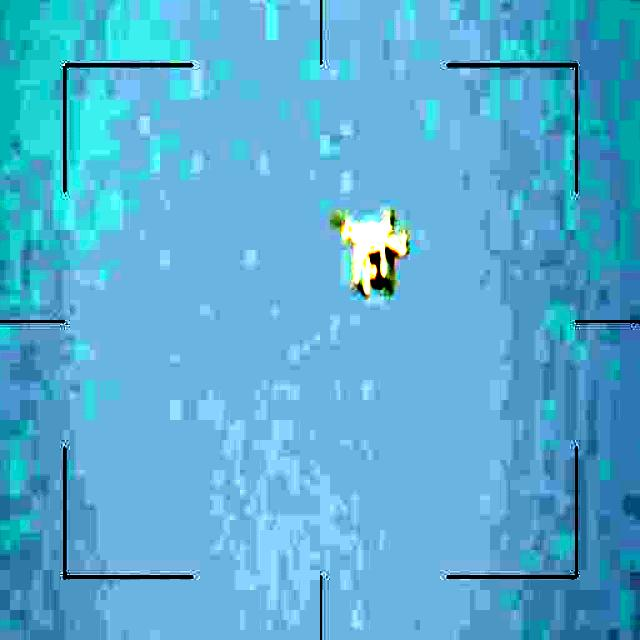bird: (331, 209, 412, 299)
